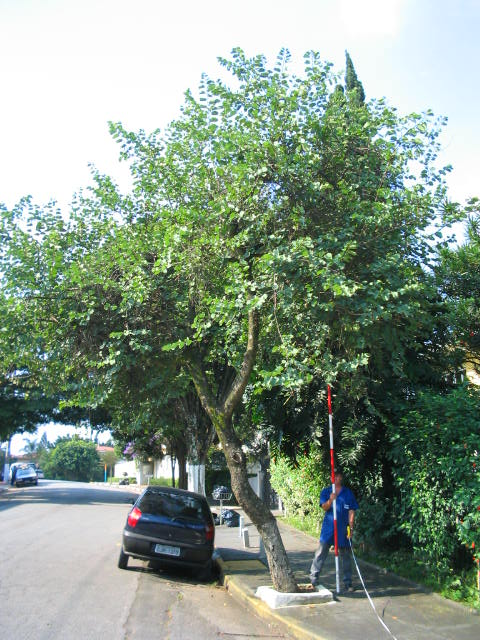crown: (3, 45, 467, 416)
stem: (207, 415, 310, 593)
stick: (322, 387, 344, 591)
tree: (1, 44, 469, 593)
